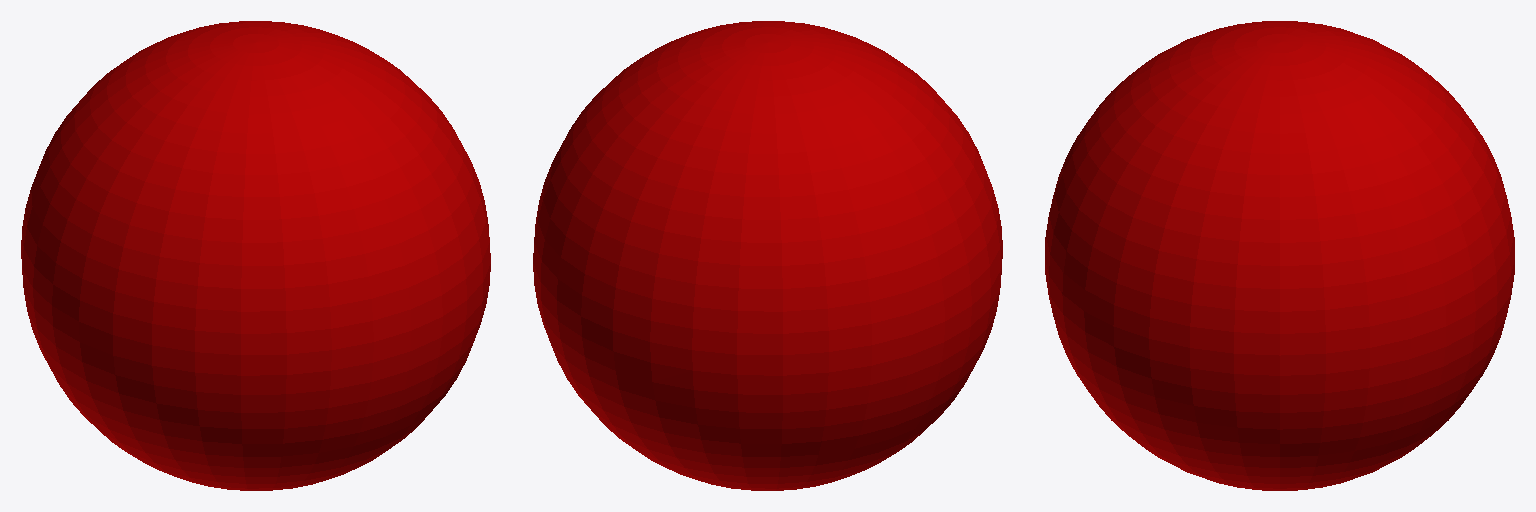
Rendered from boje_1.obj.
3 renders of one model, left to right at view 1: azimuth 30°, elevation 25°; view 2: azimuth 150°, elevation 25°; view 3: azimuth 270°, elevation 25°, orthographic.
Size of the model in its own units: 1 by 1 by 1.